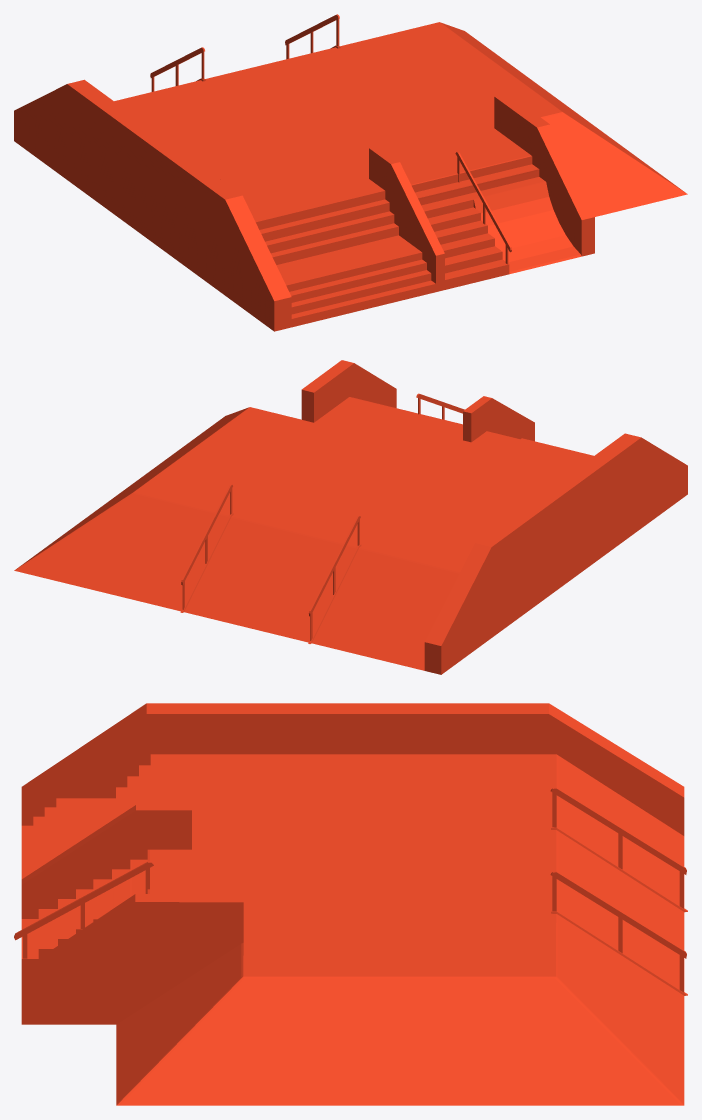
Rendered from SM_Skate_Box_City.fbx.
3 views of the same model, one above another, from view 1: azimuth 30°, elevation 25°; view 2: azimuth 150°, elevation 25°; view 3: azimuth 270°, elevation 25° (orthographic). The views are drawn at different scales.
Parts seen in each view (by area): view 1: SM_Skate_Box_City; view 2: SM_Skate_Box_City; view 3: SM_Skate_Box_City.
Boxes of the visible parts, x1,y1,x2,y2 form: SM_Skate_Box_City: (14, 14, 687, 331); SM_Skate_Box_City: (14, 360, 687, 674); SM_Skate_Box_City: (14, 703, 687, 1105).
Bounding box in the file's own units: 10 × 2.05 × 10.17.
